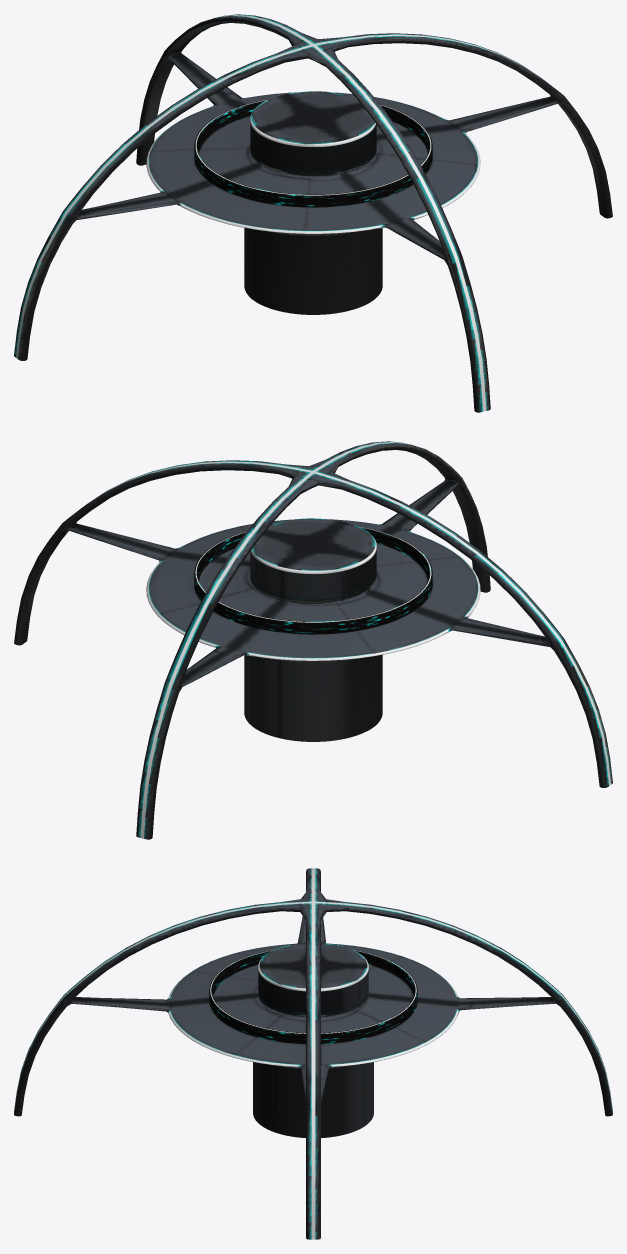
Rendered from testgtlf.gltf.
The picture shows the model from 3 angles, top to bottom: view 1: azimuth 30°, elevation 25°; view 2: azimuth 150°, elevation 25°; view 3: azimuth 270°, elevation 25°; orthographic projection. The views are drawn at different scales.
Parts seen in each view (by area): view 1: Cylinder; view 2: Cylinder; view 3: Cylinder.
Boxes of the visible parts, box(x1,y1,x2,y2) form: Cylinder: box(14, 14, 612, 412); Cylinder: box(14, 441, 612, 839); Cylinder: box(14, 868, 612, 1239).
Bounding box in the file's own units: 59.85 × 23.27 × 59.85.
2 materials, 2 textured.
